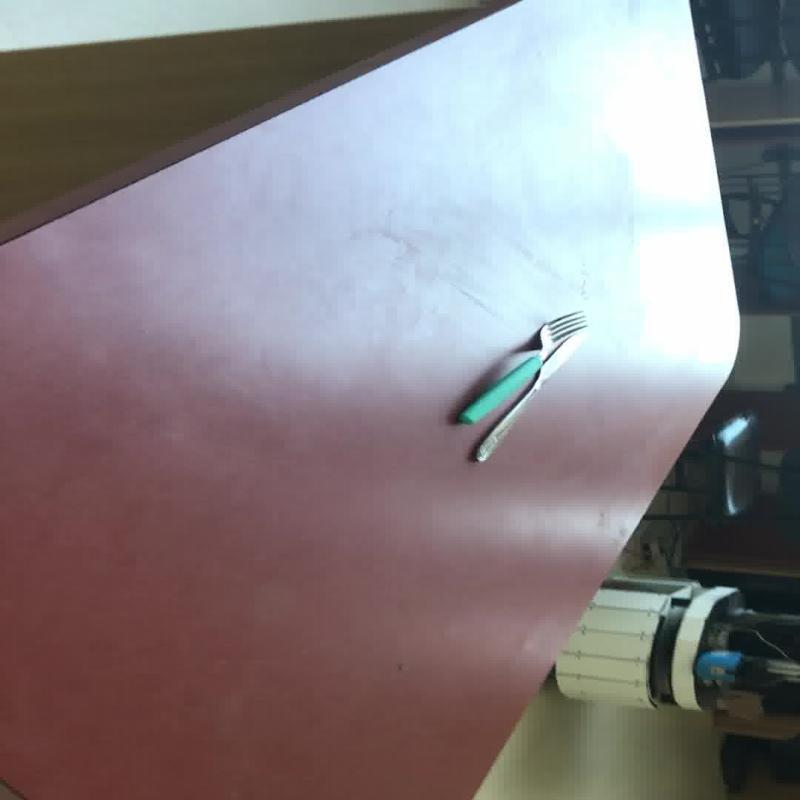fork: (470, 310, 588, 462), (454, 309, 586, 425)
knife: (465, 310, 588, 462)
